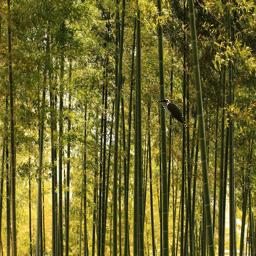Cuckoo: (156, 99, 187, 130)
